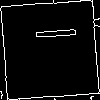I: (24, 24, 77, 43)
